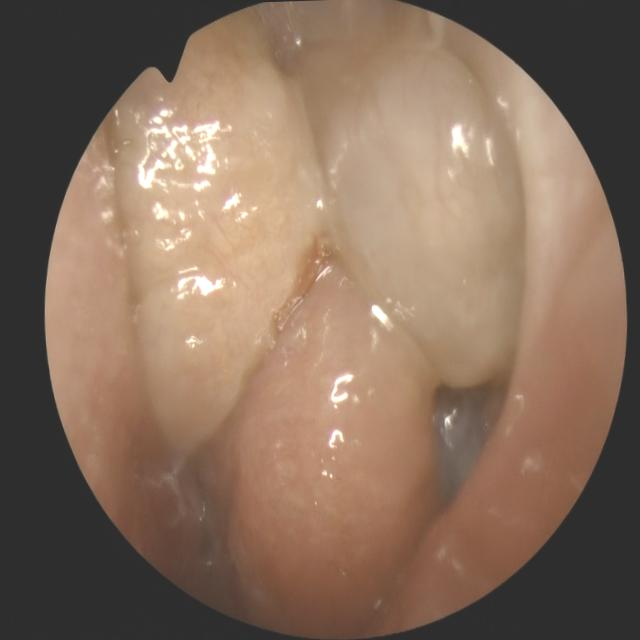OPENING: (142, 446, 255, 610)
POLYPS: (295, 16, 546, 386), (109, 9, 314, 439)
